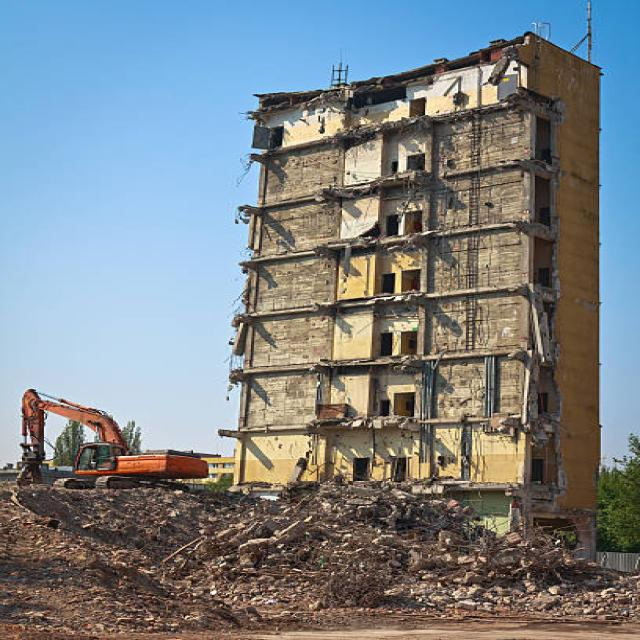Destroyed_building: (4, 1, 640, 639)
